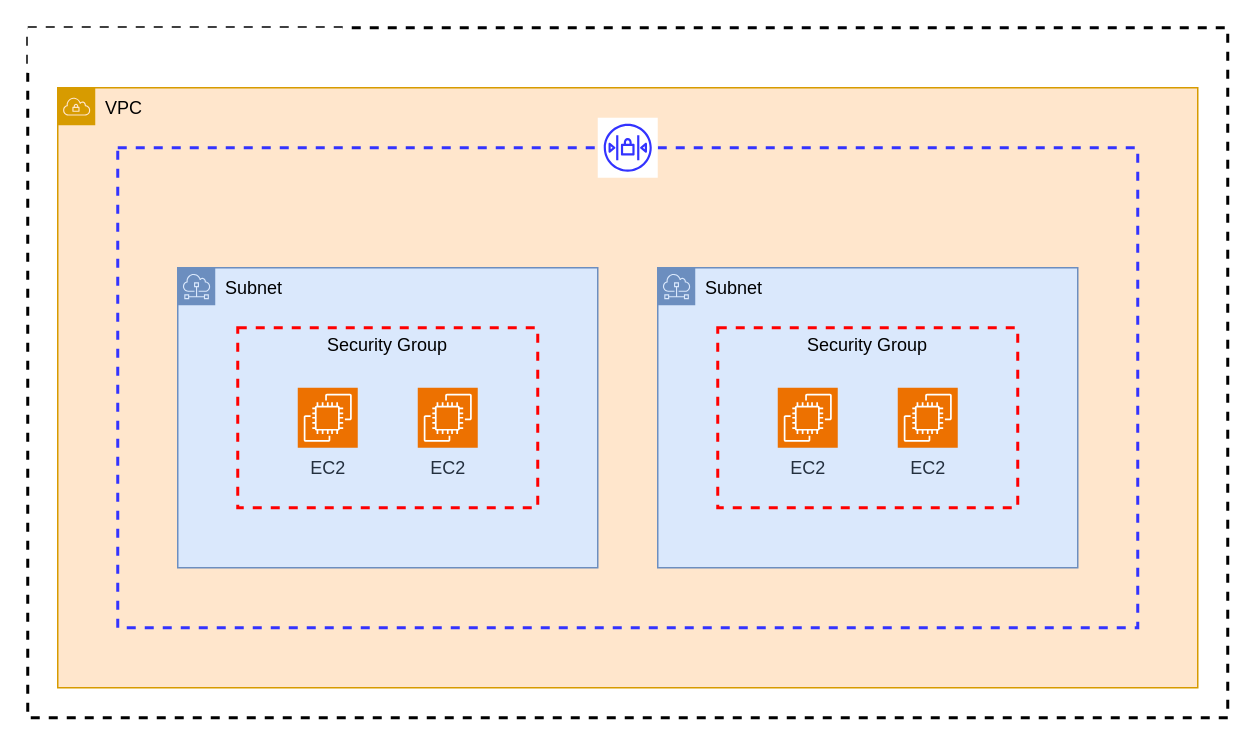
This 1254x744 diagram has some shape labels left out. Here are the shapes that lost their labels. From the top down, the centre of each, then its label:
the point at 184,49: Route Table / AWS Network Firewall
the point at 627,147: Network Access Control List
